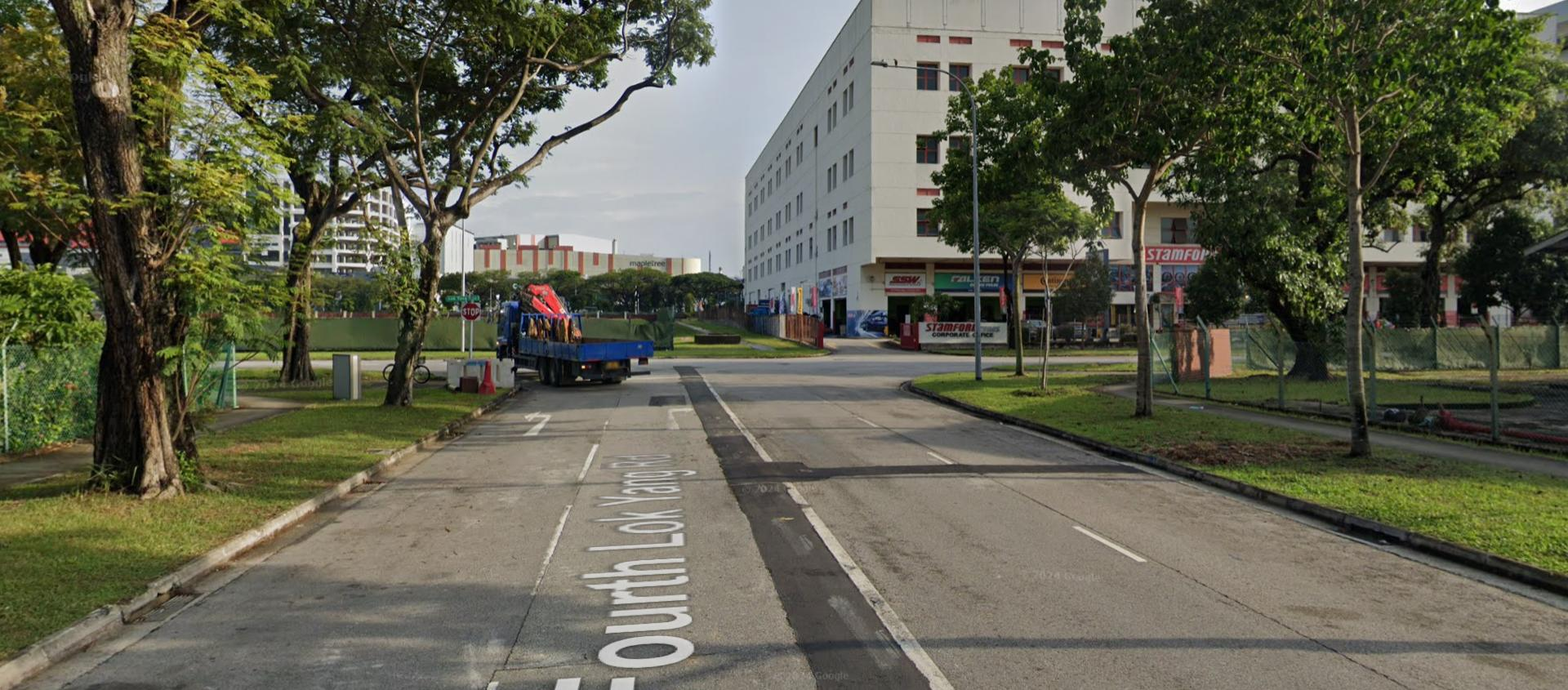normal: (136, 594, 201, 621)
